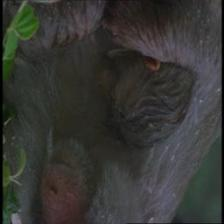monkey: (16, 134, 106, 223), (80, 50, 124, 131)
